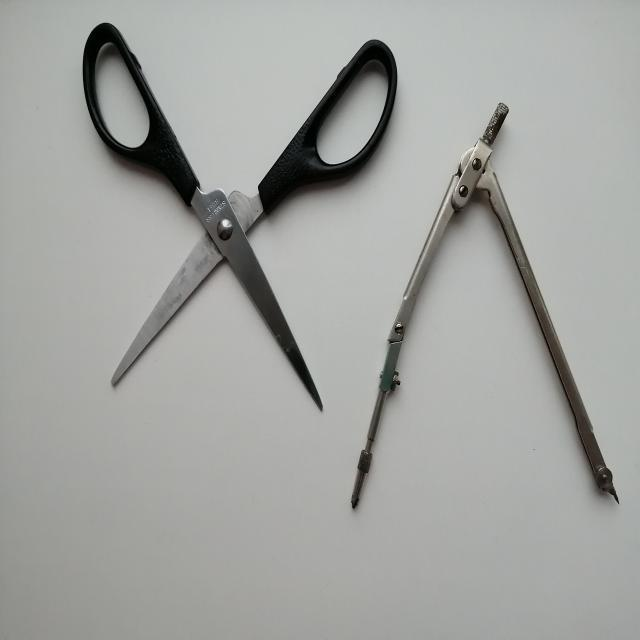scissors: (81, 8, 427, 445)
